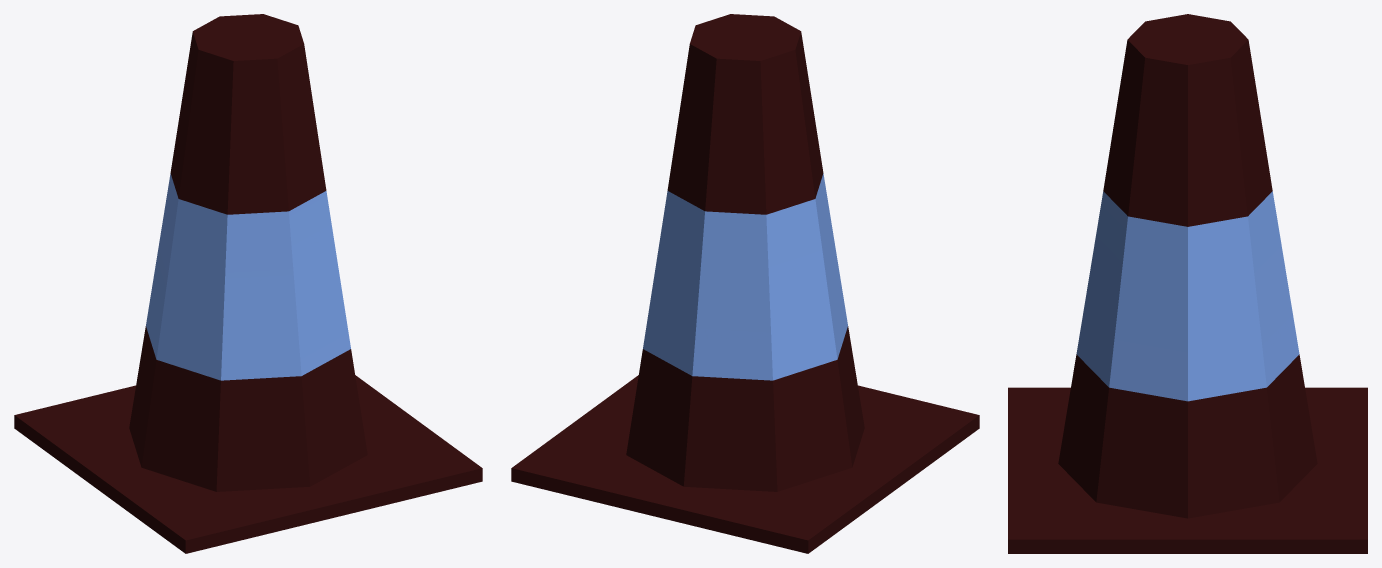
Rendered from plot.fbx.
The picture shows the model from 3 angles, left to right: view 1: azimuth 30°, elevation 25°; view 2: azimuth 150°, elevation 25°; view 3: azimuth 270°, elevation 25°; orthographic projection. The views are drawn at different scales.
Visible parts, largest first — view 1: plot; view 2: plot; view 3: plot.
Boxes of the visible parts, x1,y1,x2,y2 form: plot: (14,14,482,553); plot: (511,14,979,553); plot: (1008,14,1367,553).
Bounding box in the file's own units: 11.6 × 15.6 × 11.6.
